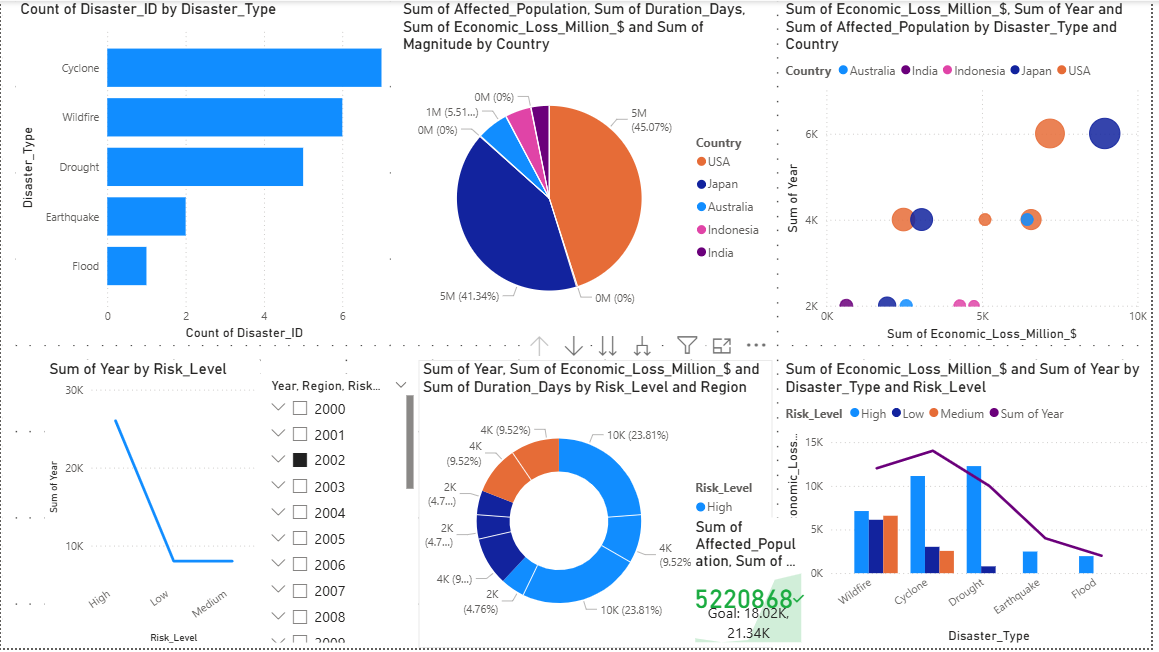

What the dashboard file says about the page in this screenshot:
{"tool":"powerbi","page":{"name":"Natural Disaster PowerBi Main Project Data Analysis and Predictions","canvas":[1280,720],"ordinal":0},"visuals":[{"type":"barChart","fields":{"Y":["CountNonNull(Natural_disaster Prediction of Data Analysis.Disaster_ID)"],"Category":["Natural_disaster Prediction of Data Analysis.Disaster_Type"]},"box":[16,0,416,384],"z":0},{"type":"lineChart","fields":{"Y":["Sum(Natural_disaster Prediction of Data Analysis.Year)"],"Category":["Natural_disaster Prediction of Data Analysis.Risk_Level"]},"box":[48,400,240,320],"z":1000},{"type":"pieChart","fields":{"Y":["Sum(Natural_disaster Prediction of Data Analysis.Affected_Population)","Sum(Natural_disaster Prediction of Data Analysis.Duration_Days)","Sum(Natural_disaster Prediction of Data Analysis.Economic_Loss_Million_$)","Sum(Natural_disaster Prediction of Data Analysis.Magnitude)"],"Category":["Natural_disaster Prediction of Data Analysis.Country","Natural_disaster Prediction of Data Analysis.Region"]},"box":[442,0,416,384],"z":2000},{"type":"donutChart","fields":{"Category":["Natural_disaster Prediction of Data Analysis.Risk_Level","Natural_disaster Prediction of Data Analysis.Country","Natural_disaster Prediction of Data Analysis.Disaster_Type"],"Y":["Sum(Natural_disaster Prediction of Data Analysis.Year)"],"Series":["Natural_disaster Prediction of Data Analysis.Region"]},"box":[464,400,394,320],"z":3000},{"type":"scatterChart","fields":{"X":["Sum(Natural_disaster Prediction of Data Analysis.Economic_Loss_Million_$)"],"Y":["Sum(Natural_disaster Prediction of Data Analysis.Year)"],"Category":["Natural_disaster Prediction of Data Analysis.Disaster_Type"],"Series":["Natural_disaster Prediction of Data Analysis.Country"],"Size":["Sum(Natural_disaster Prediction of Data Analysis.Affected_Population)"]},"box":[868,0,412,384],"z":4000},{"type":"lineClusteredColumnComboChart","fields":{"Category":["Natural_disaster Prediction of Data Analysis.Disaster_Type"],"Y":["Sum(Natural_disaster Prediction of Data Analysis.Economic_Loss_Million_$)"],"Series":["Natural_disaster Prediction of Data Analysis.Risk_Level"],"Y2":["Sum(Natural_disaster Prediction of Data Analysis.Year)"]},"box":[868,400,412,320],"z":5000},{"type":"slicer","fields":{"Values":["Natural_disaster Prediction of Data Analysis.Year","Natural_disaster Prediction of Data Analysis.Region","Natural_disaster Prediction of Data Analysis.Risk_Level","Natural_disaster Prediction of Data Analysis.Disaster_Type"]},"box":[288,416,176,304],"z":6000},{"type":"kpi","fields":{"Indicator":["Sum(Natural_disaster Prediction of Data Analysis.Affected_Population)"],"TrendLine":["Natural_disaster Prediction of Data Analysis.Country"],"Goal":["Sum(Natural_disaster Prediction of Data Analysis.Year)","Sum(Natural_disaster Prediction of Data Analysis.Economic_Loss_Million_$)"]},"box":[768,576,128,144],"z":7000}]}

Visuals, with their boxes in screenshot pixels (x1, y1, x2, y2), scaled from the page's 1280x720 canvas onto the 1159x652 screenshot:
barChart - CountNonNull(Natural_disaster Prediction of Data Analysis.Disaster_ID) x Natural_disaster Prediction of Data Analysis.Disaster_Type: x1=14 y1=0 x2=391 y2=348
lineChart - Sum(Natural_disaster Prediction of Data Analysis.Year) x Natural_disaster Prediction of Data Analysis.Risk_Level: x1=43 y1=362 x2=261 y2=651
pieChart - Sum(Natural_disaster Prediction of Data Analysis.Affected_Population) x Sum(Natural_disaster Prediction of Data Analysis.Duration_Days): x1=400 y1=0 x2=777 y2=348
donutChart - Natural_disaster Prediction of Data Analysis.Risk_Level x Natural_disaster Prediction of Data Analysis.Country: x1=420 y1=362 x2=777 y2=651
scatterChart - Sum(Natural_disaster Prediction of Data Analysis.Economic_Loss_Million_$) x Sum(Natural_disaster Prediction of Data Analysis.Year): x1=786 y1=0 x2=1158 y2=348
lineClusteredColumnComboChart - Natural_disaster Prediction of Data Analysis.Disaster_Type x Sum(Natural_disaster Prediction of Data Analysis.Economic_Loss_Million_$): x1=786 y1=362 x2=1158 y2=651
slicer - Natural_disaster Prediction of Data Analysis.Year x Natural_disaster Prediction of Data Analysis.Region: x1=261 y1=377 x2=420 y2=651
kpi - Sum(Natural_disaster Prediction of Data Analysis.Affected_Population) x Natural_disaster Prediction of Data Analysis.Country: x1=695 y1=522 x2=811 y2=651
